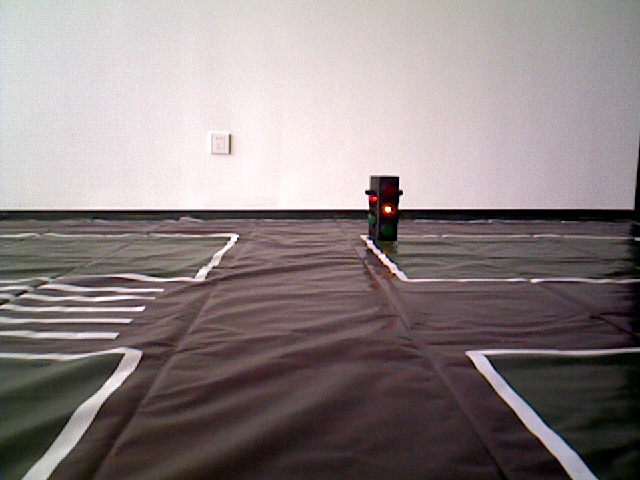yellow: (370, 178, 399, 235)
